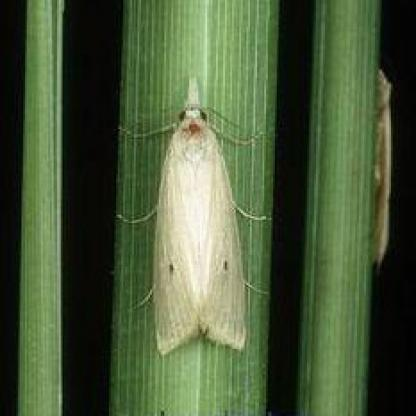stem-borer: (138, 74, 252, 358)
